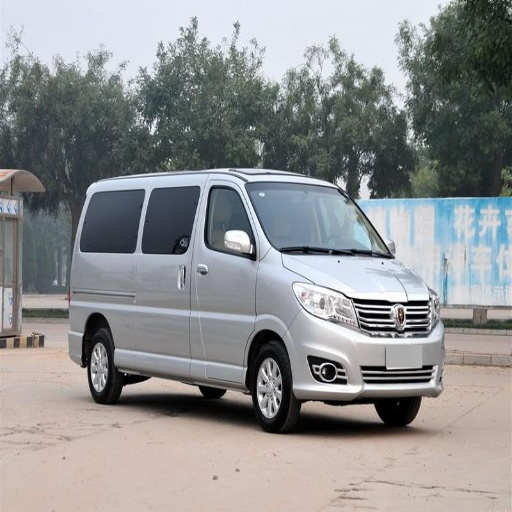front_bumper: (289, 297, 445, 402)
front_right_door: (191, 180, 258, 375)
front_right_light: (294, 281, 356, 327)
trunk: (65, 286, 120, 353)
